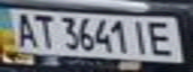1: (109, 17, 130, 54)
3: (54, 13, 78, 51)
4: (93, 16, 112, 54)
6: (75, 16, 96, 53)
A: (6, 9, 39, 48)
E: (145, 18, 184, 57)
I: (127, 17, 154, 55)
T: (30, 11, 57, 50)
